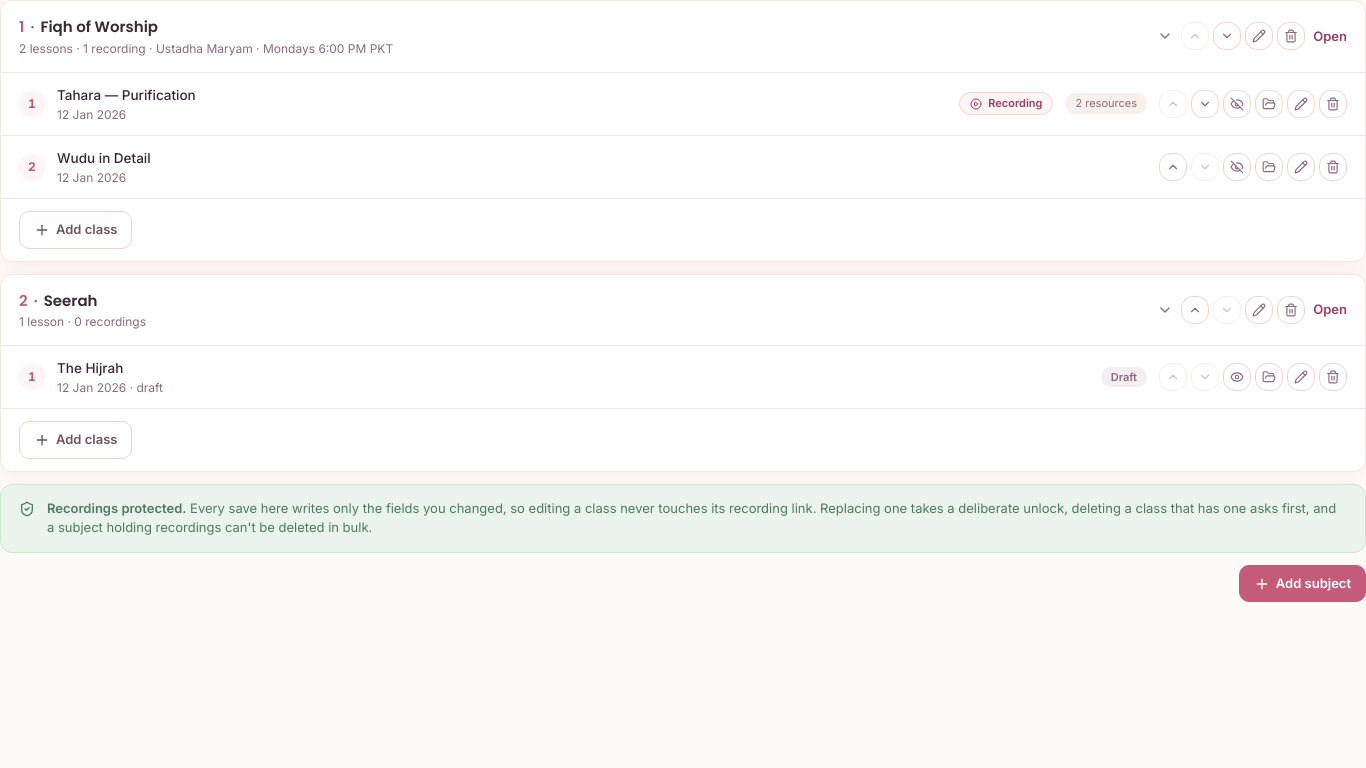
it: CourseStructureEditor › refuses to delete a subject whose lessons hold recordings
Click the button named "Delete Fiqh of Worship". click: (1291, 36)
box: [1277,22,1305,50]
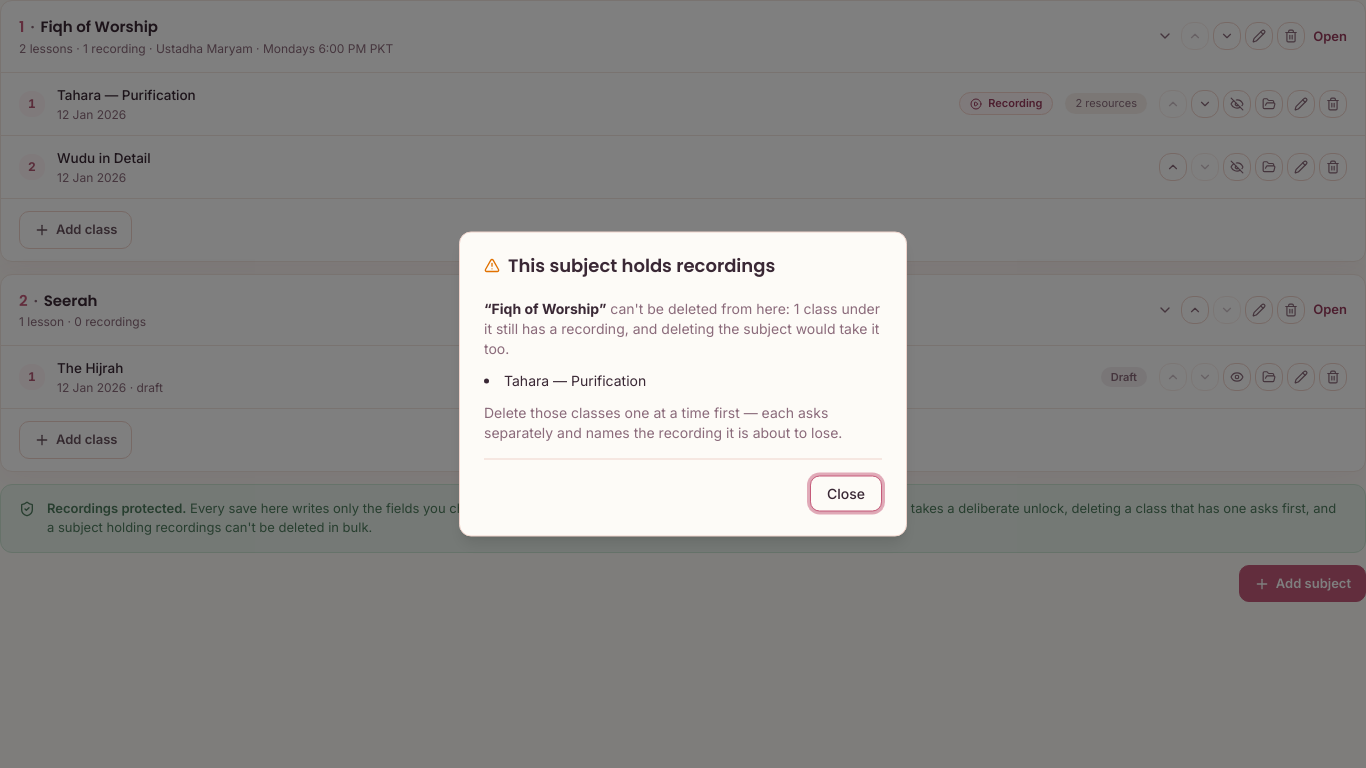
Expected: the heading "This subject holds recordings" is shown, [484,252,775,278]
Expected: the button "Close" is shown, [810,476,882,512]
